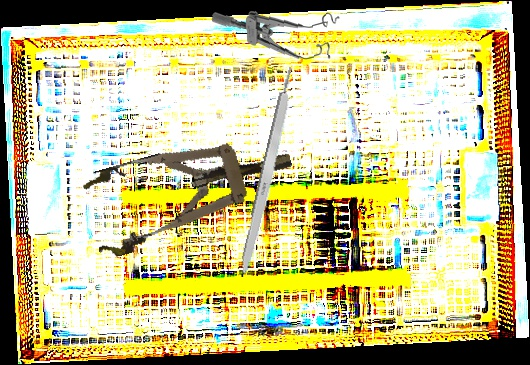Scalpel Handle: (237, 66, 300, 279)
Speculum: (77, 118, 304, 262), (211, 3, 343, 68)
